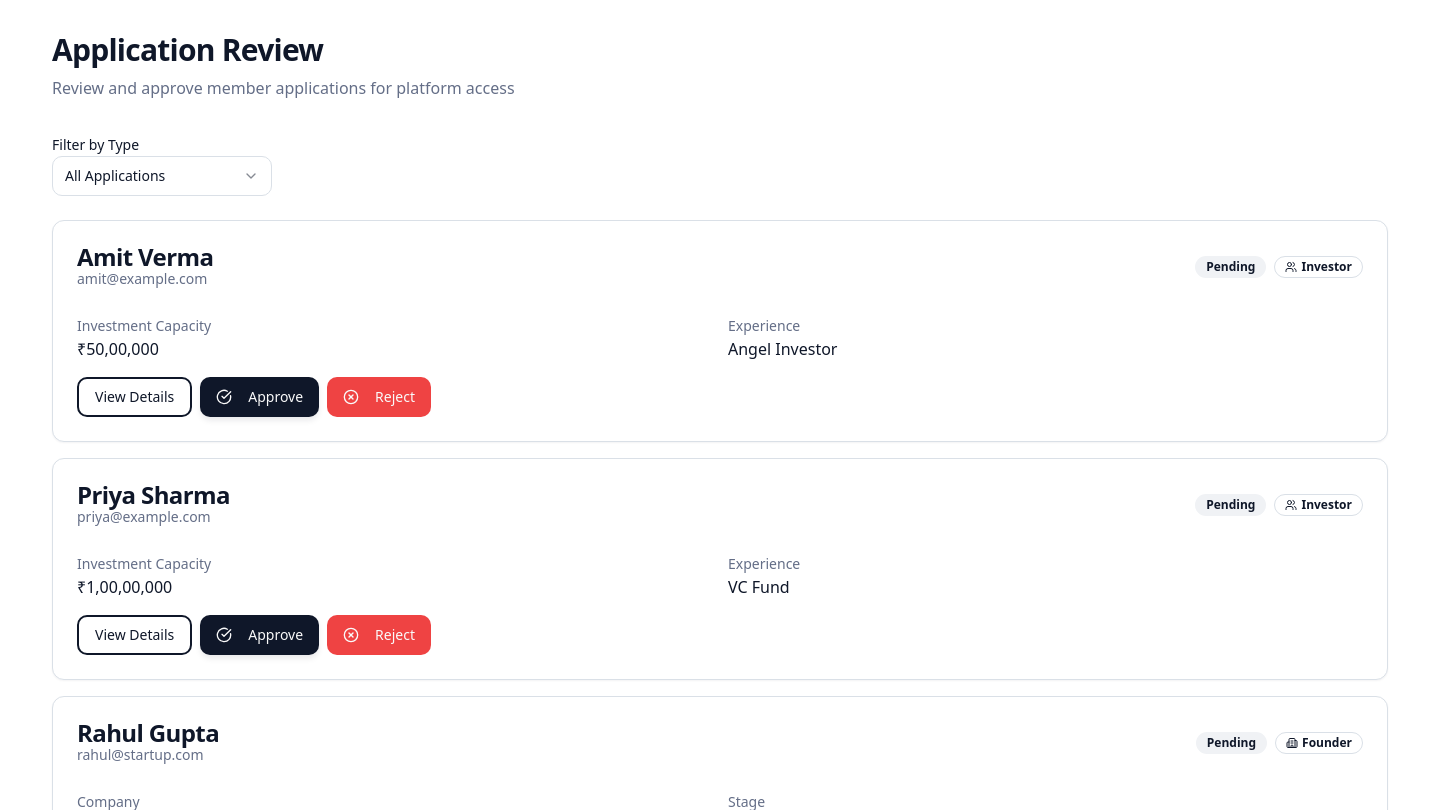
Scenario: US-ADMIN-004: Application Review › Filter Applications › should filter by founder applications
Expected: the text "Amit Verma" is shown, [77, 245, 213, 269]
Expected: the text "Rahul Gupta" is shown, [77, 721, 219, 745]
Click the dropdown named "Filter by Type" at (162, 176), box [52, 156, 272, 196]
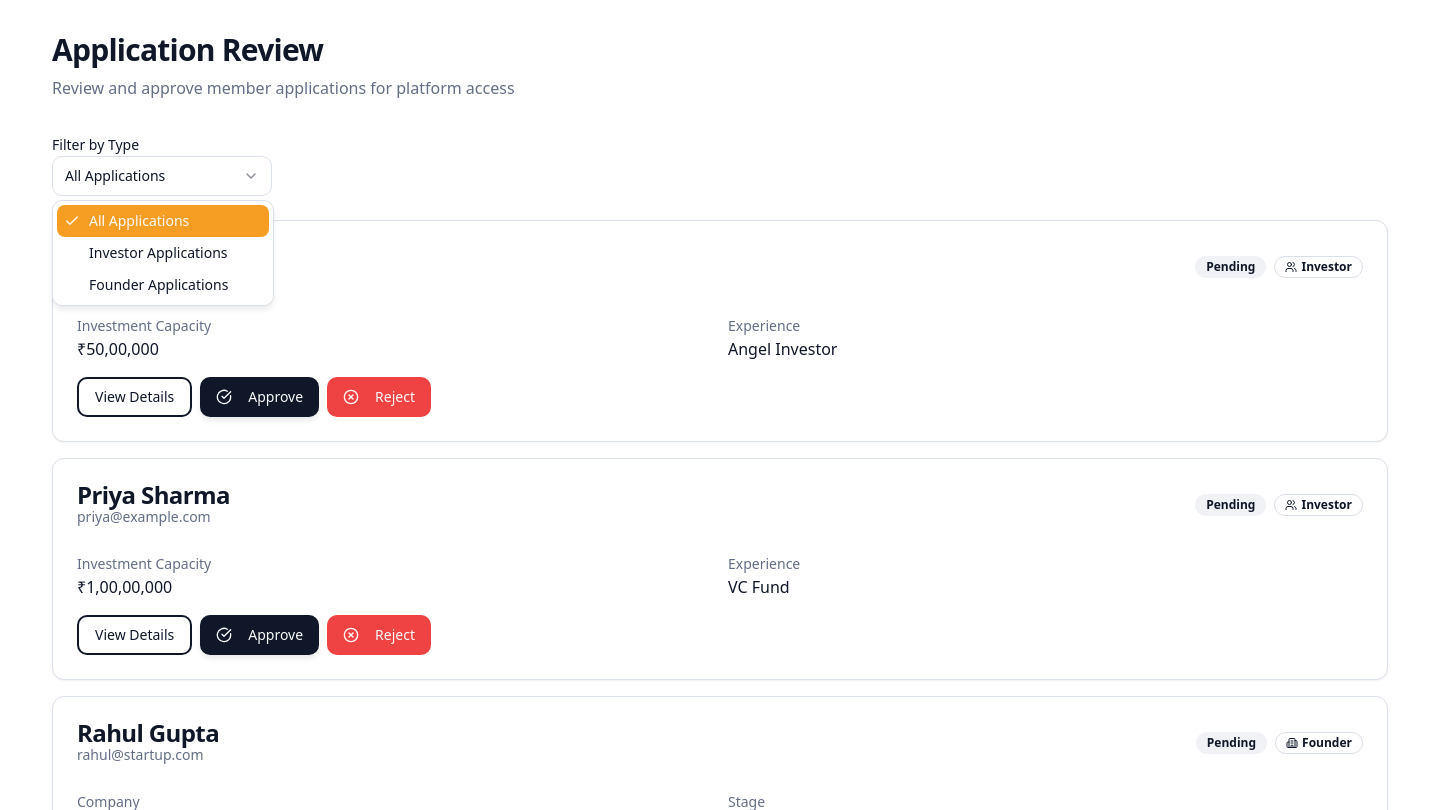
Click the option "Founder Applications" at (159, 284), box [89, 275, 228, 294]
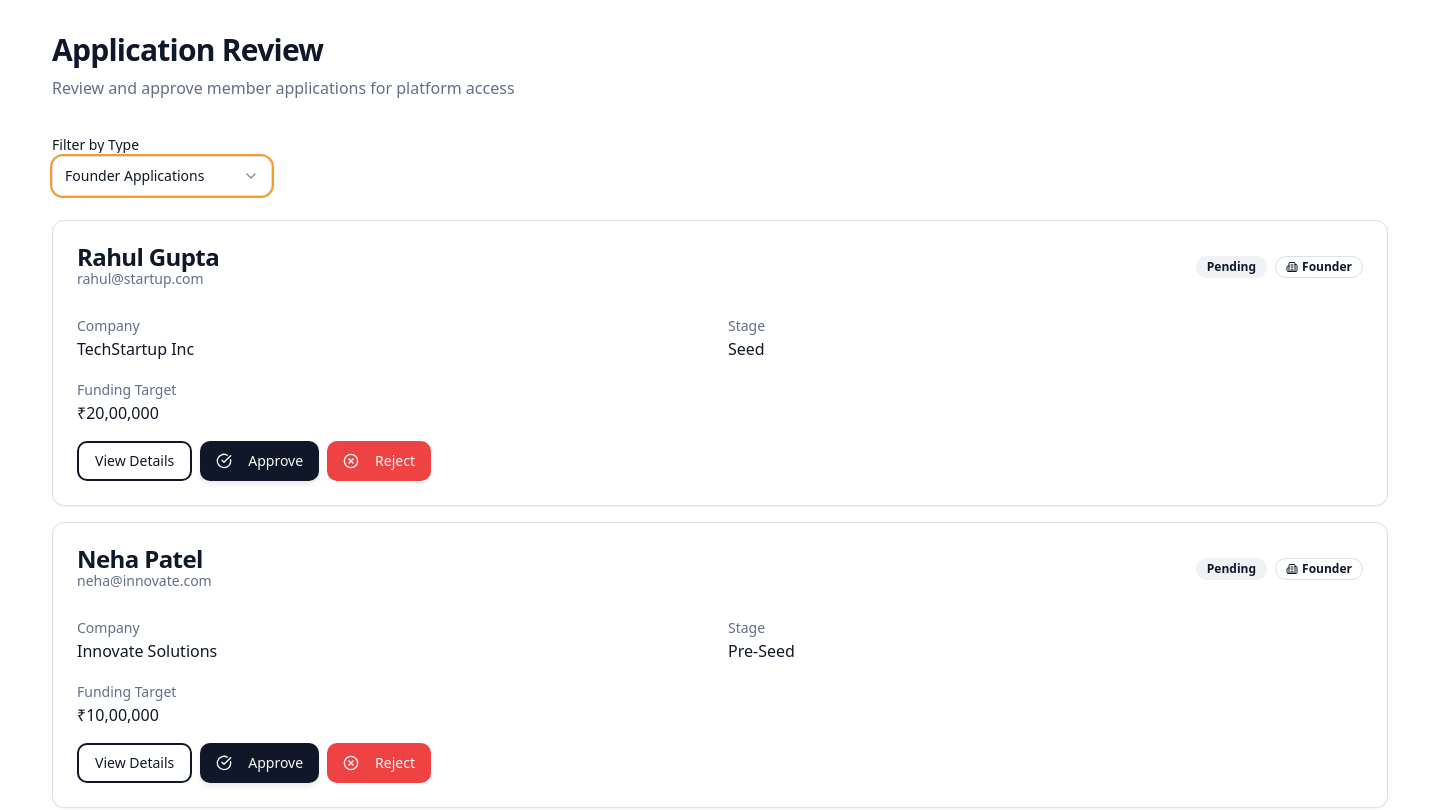
Expected: the text "Rahul Gupta" is shown, [77, 245, 219, 269]
Expected: the text "Amit Verma" is gone
